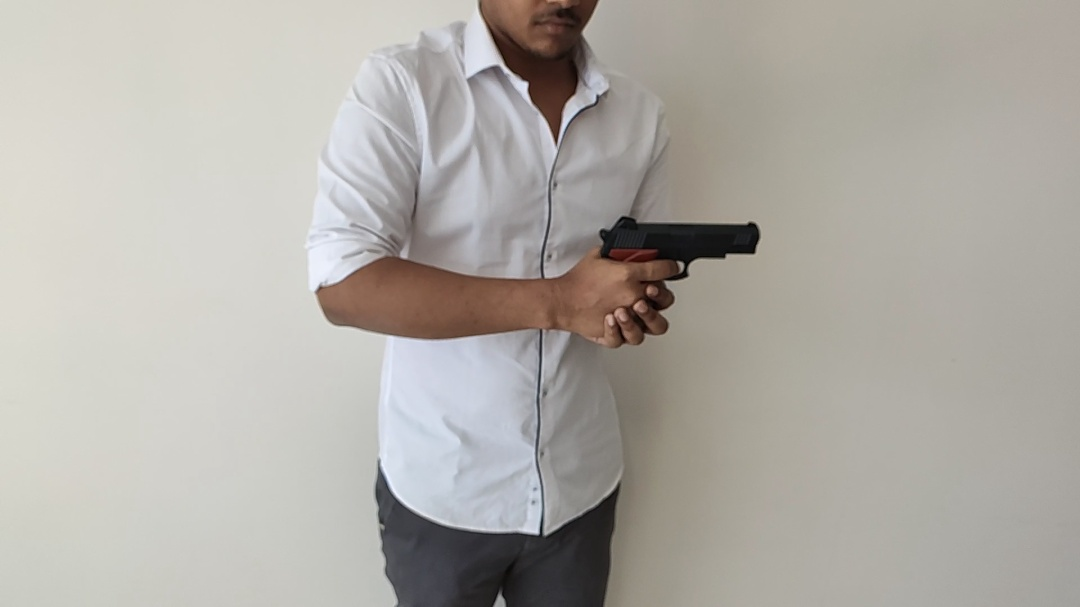gun: (346, 28, 856, 583)
